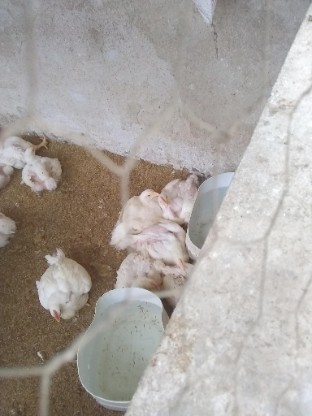Pollos: (21, 251, 97, 323), (22, 140, 66, 201), (119, 254, 162, 307), (148, 224, 195, 271), (113, 182, 157, 231), (152, 188, 195, 223), (162, 163, 204, 193), (0, 126, 30, 167), (0, 210, 23, 249)
